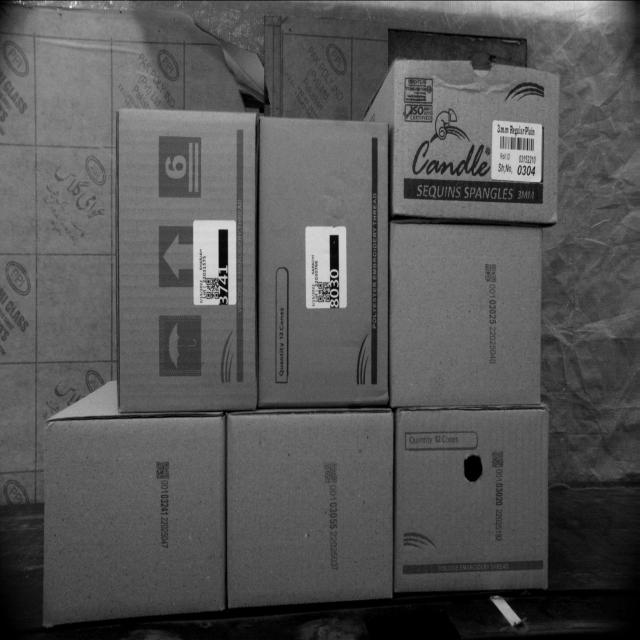cardboxes: (114, 104, 255, 413), (44, 414, 226, 630), (260, 115, 390, 406), (224, 411, 395, 606), (388, 222, 542, 410), (393, 411, 549, 594), (395, 56, 560, 220)
